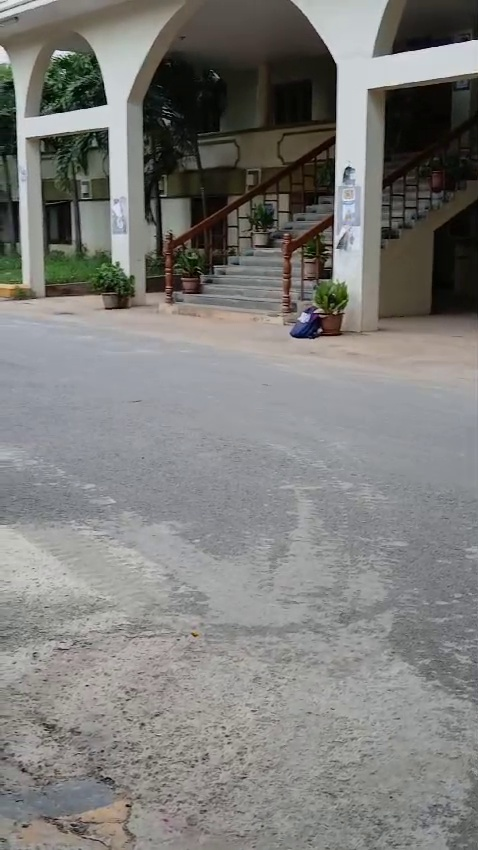bag: (285, 295, 315, 345)
